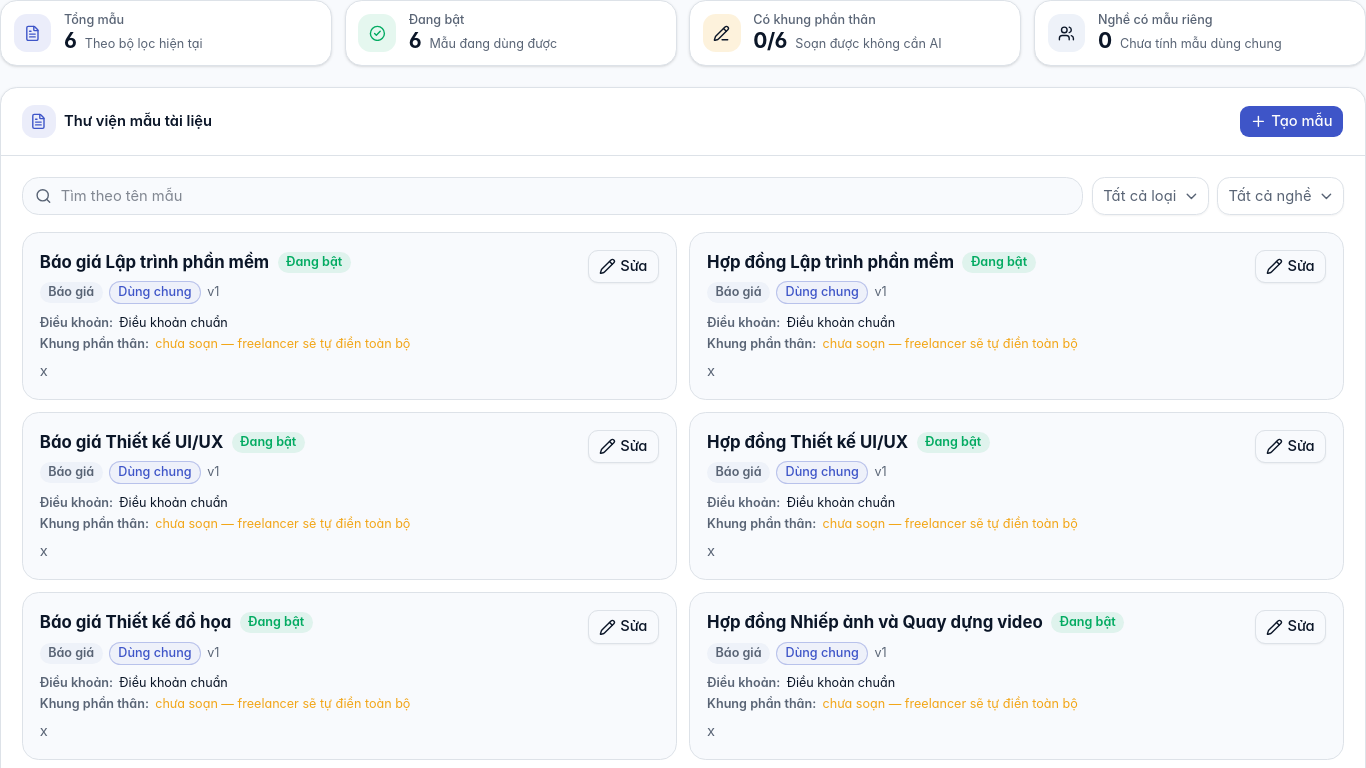
Test: <AdminTemplatesPage /> — tìm theo tên › không khớp mẫu nào thì báo rõ chữ đang tìm và bỏ thanh phân trang
The image size is (1366, 768).
In the field named "Tìm mẫu theo tên": (553, 196) [22,177,1083,215], type "xyz"
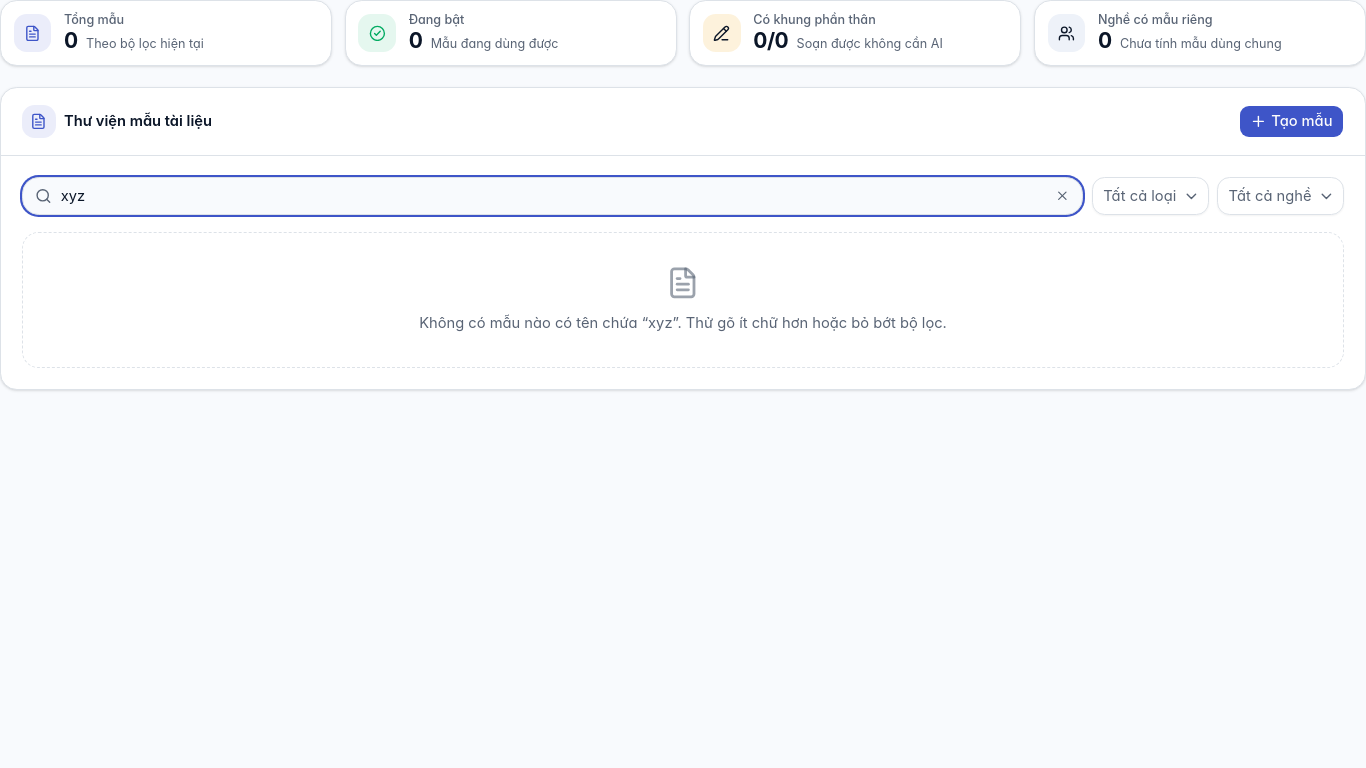
Result: the text "Không có mẫu nào có tên chứa “xyz”" is shown at [419,314,947,332]
